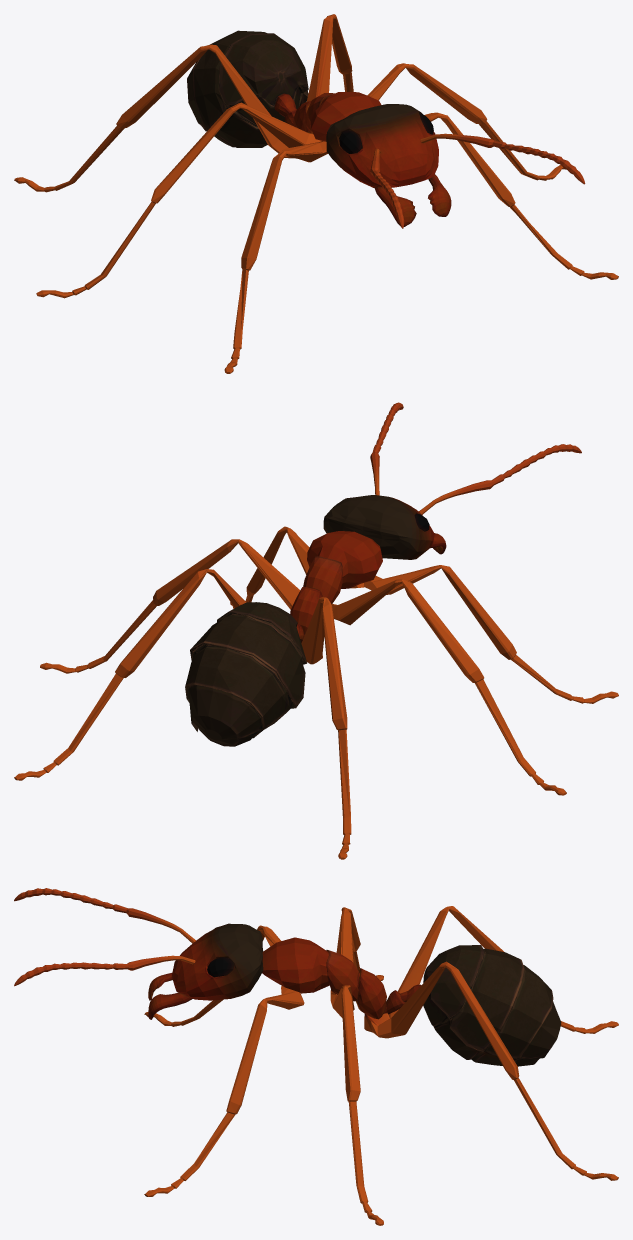
The model's file is ant.obj.
The picture shows the model from 3 angles, top to bottom: view 1: azimuth 30°, elevation 25°; view 2: azimuth 150°, elevation 25°; view 3: azimuth 270°, elevation 25°; orthographic projection. The views are drawn at different scales.
Parts seen in each view (by area): view 1: Ant; view 2: Ant; view 3: Ant.
Boxes of the visible parts, x1,y1,x2,y2 form: Ant: [14, 14, 618, 373]; Ant: [14, 402, 618, 859]; Ant: [14, 888, 618, 1225].
Bounding box in the file's own units: 1.51 × 0.5179 × 1.55.
